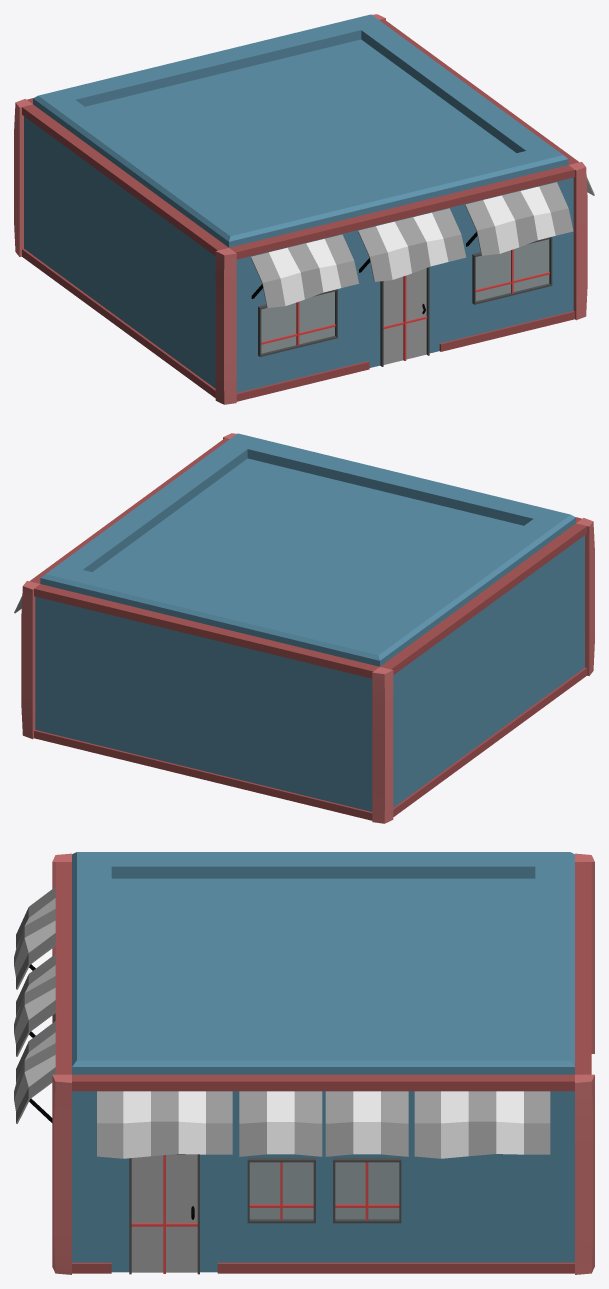
File: Building_17.fbx
3 views of the same model, one above another, from view 1: azimuth 30°, elevation 25°; view 2: azimuth 150°, elevation 25°; view 3: azimuth 270°, elevation 25° (orthographic). The views are drawn at different scales.
Visible parts, largest first — view 1: polySurface217; view 2: polySurface217; view 3: polySurface217.
Boxes of the visible parts, x1=… form: polySurface217: x1=14, y1=14, x2=594, y2=404; polySurface217: x1=14, y1=433, x2=594, y2=823; polySurface217: x1=14, y1=852, x2=594, y2=1274.
Size of the model in its own units: 10.95 by 4.25 by 10.97.
